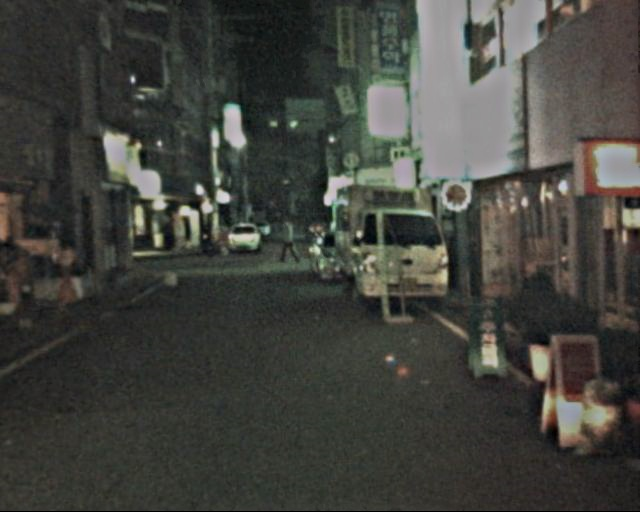person: (275, 217, 300, 271)
